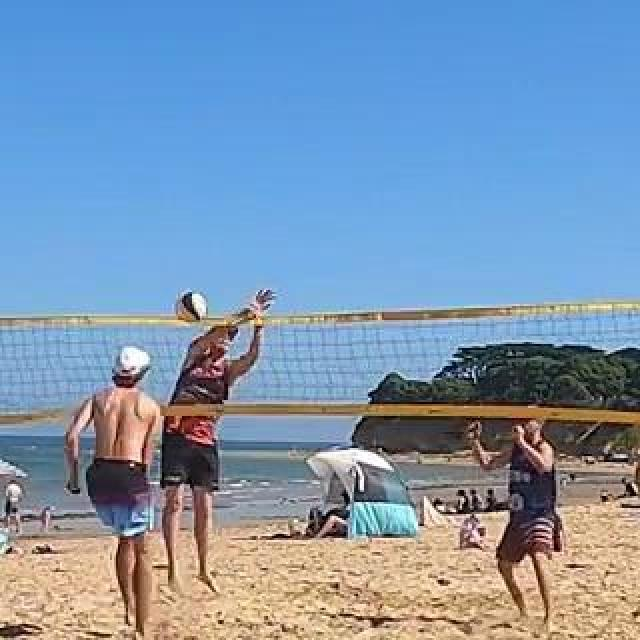volleyball: (175, 293, 205, 321)
